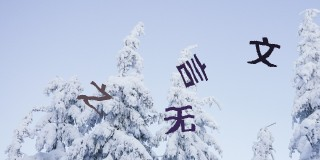之: (77, 80, 112, 115)
文: (248, 35, 280, 68)
无: (163, 106, 197, 134)
言: (176, 53, 211, 88)
